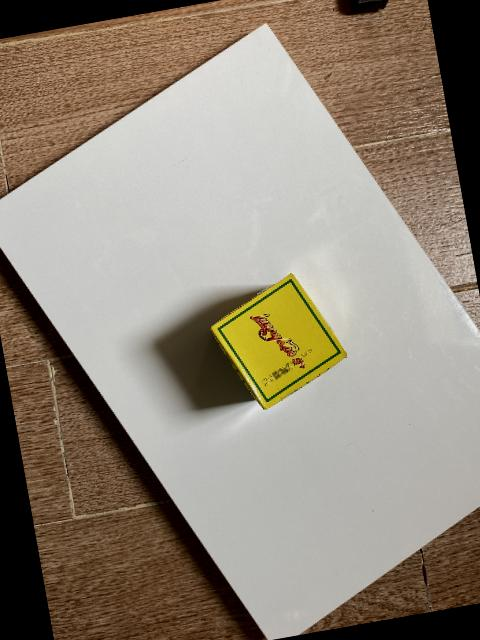luong_kho: (208, 271, 346, 408)
